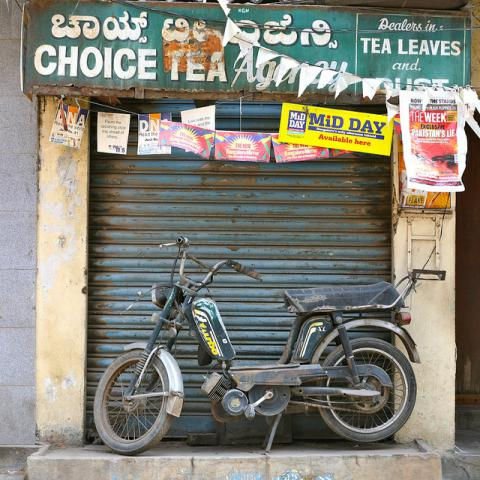motorcycle: (90, 233, 420, 456)
